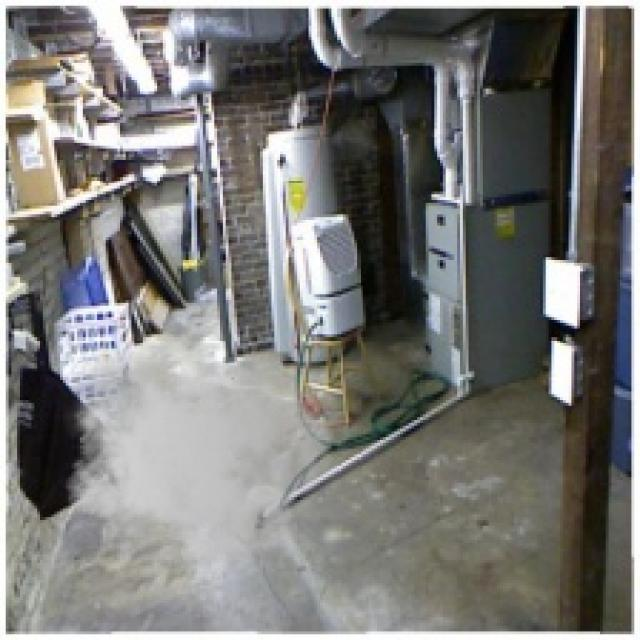Smoke: (57, 337, 334, 572)
